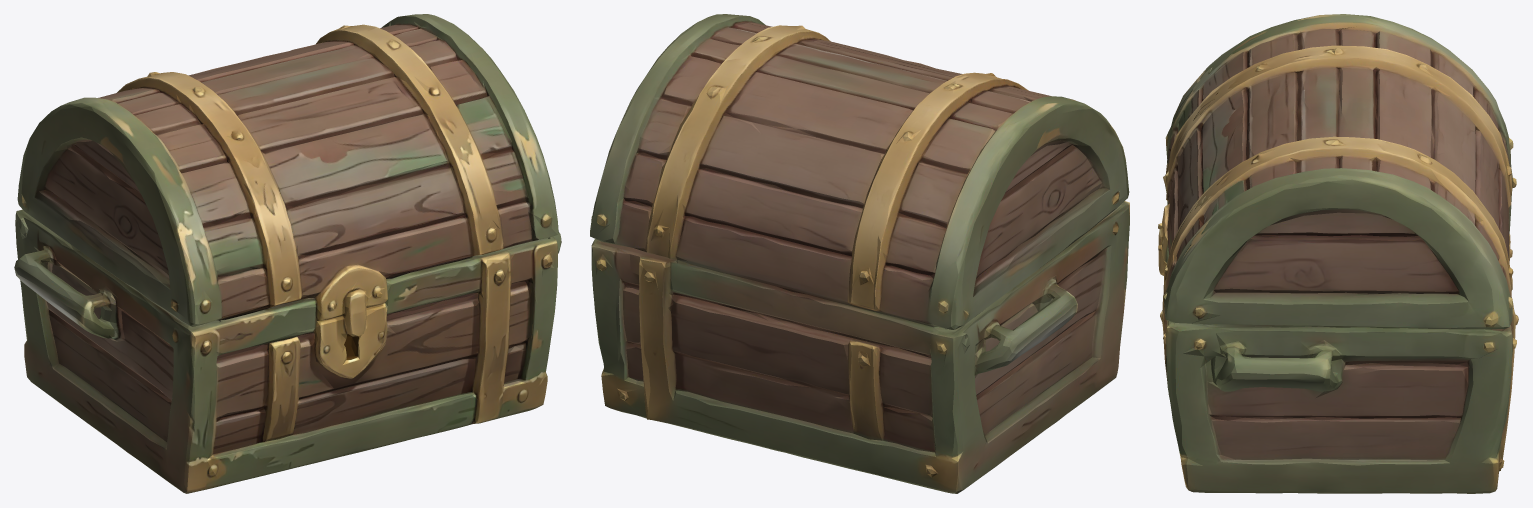
The model's file is base_basic_pbr.glb.
3 renders of one model, left to right at view 1: azimuth 30°, elevation 25°; view 2: azimuth 150°, elevation 25°; view 3: azimuth 270°, elevation 25°, orthographic. The views are drawn at different scales.
Visible parts, largest first — view 1: Mesh; view 2: Mesh; view 3: Mesh.
Boxes of the visible parts, box(x1,y1,x2,y2) form: Mesh: box(14, 14, 561, 493); Mesh: box(590, 14, 1129, 493); Mesh: box(1158, 14, 1518, 493).
Size of the model in its own units: 1.89 by 1.39 by 1.41.
1 material, 1 textured.
